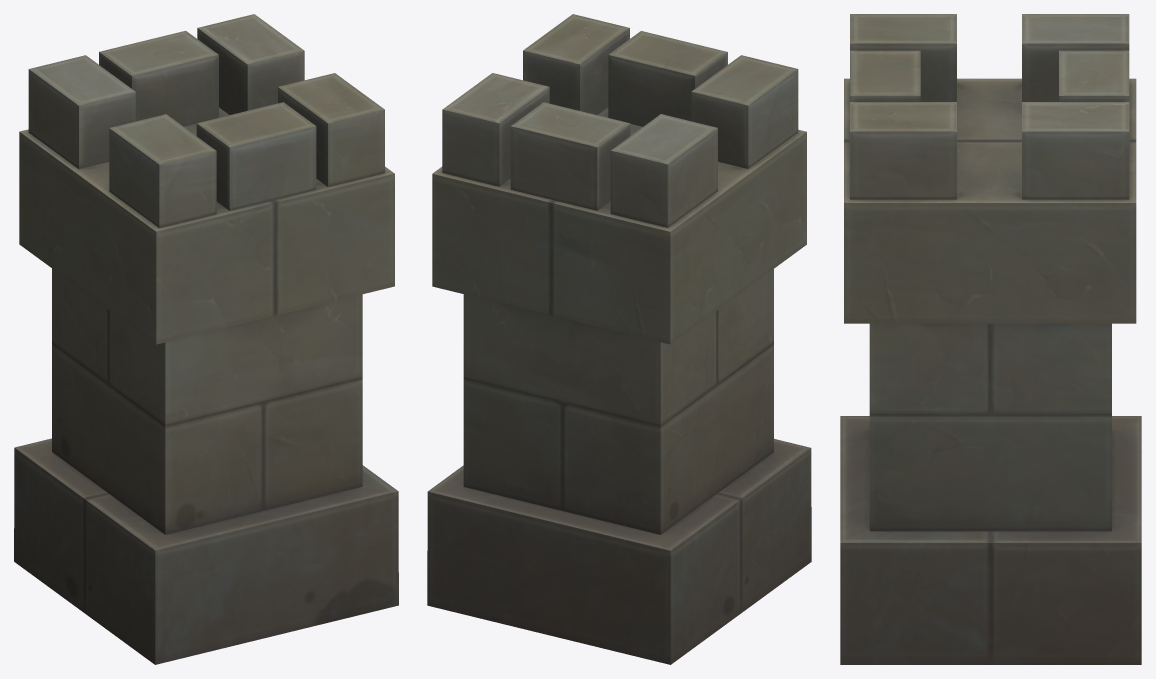
File: wall_join.FBX
3 renders of one model, left to right at view 1: azimuth 30°, elevation 25°; view 2: azimuth 150°, elevation 25°; view 3: azimuth 270°, elevation 25°, orthographic. The views are drawn at different scales.
Visible parts, largest first — view 1: wall_join; view 2: wall_join; view 3: wall_join.
Boxes of the visible parts, x1,y1,x2,y2 form: wall_join: (14, 14, 398, 664); wall_join: (427, 14, 811, 664); wall_join: (840, 14, 1141, 664).
Size of the model in its own units: 3.7 by 7.18 by 3.71.
